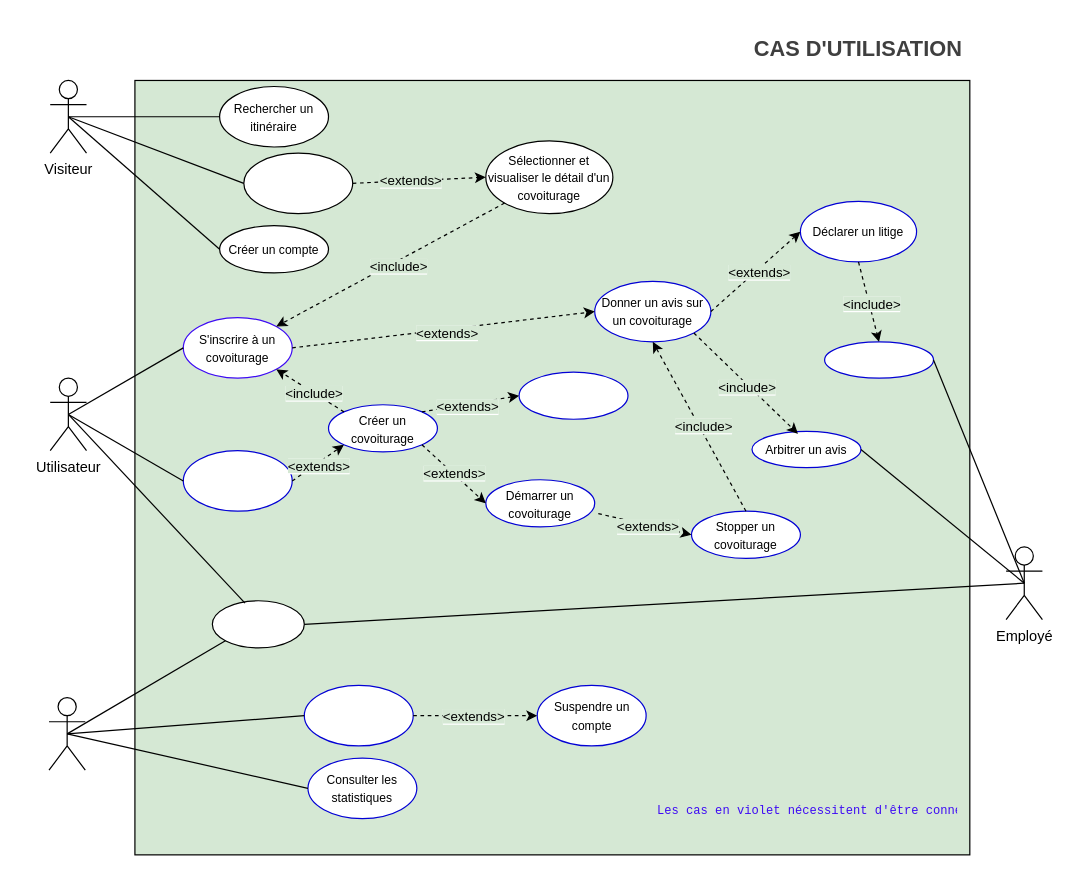
The diagram is 1073 pixels wide and 876 high, and some of its shapes have lost their labels. Here are the shapes that lost their labels. From the top down, the centre of each, then its label:
(298,183): Visualiser et filtrer les covoiturages
(878,359): Arbitrer un litige
(573,395): Annuler un covoiturage
(237,480): S'inscri re comme chauffeur
(257,624): Se connecter
(66,733): Administrateur
(358,715): Créer un compte employé
